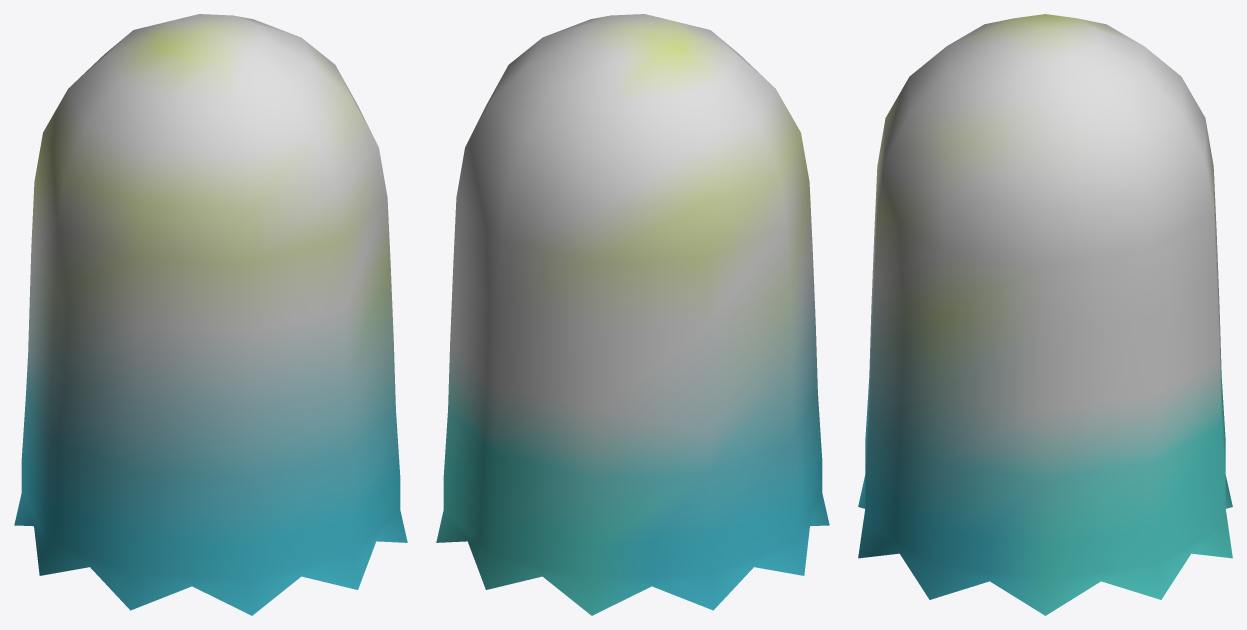
Rendered from GHOST_BODY.fbx.
3 views of the same model, side by side, from view 1: azimuth 30°, elevation 25°; view 2: azimuth 150°, elevation 25°; view 3: azimuth 270°, elevation 25° (orthographic).
Visible parts, largest first — view 1: BODY; view 2: BODY; view 3: BODY.
Boxes of the visible parts, left/top/right/bottom form: BODY: left=14, top=14, right=407, bottom=615; BODY: left=436, top=14, right=829, bottom=615; BODY: left=858, top=14, right=1232, bottom=615.
Size of the model in its own units: 2.23 by 3.14 by 2.12.
